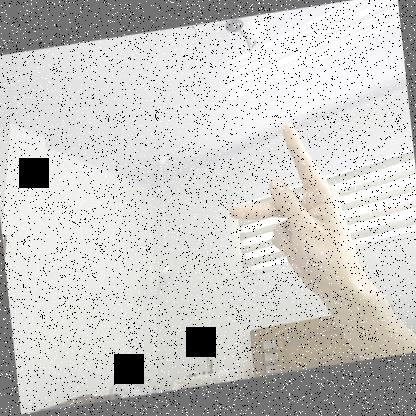K: (217, 113, 362, 316)
